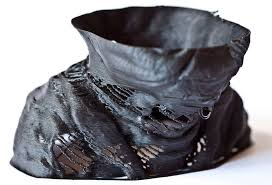fail: (66, 62, 187, 130), (47, 127, 163, 178), (184, 130, 210, 171)
